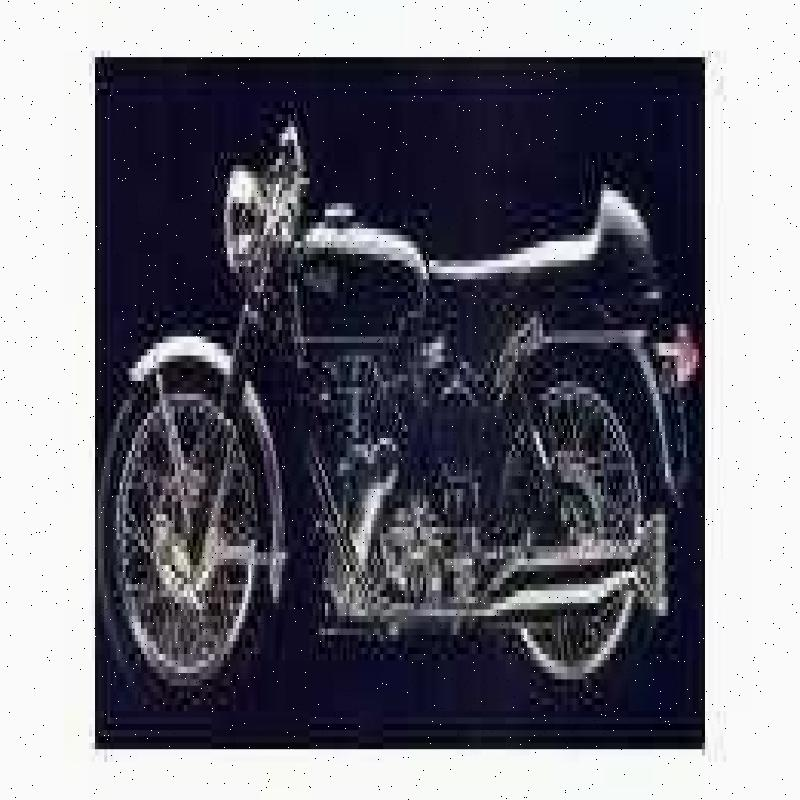bike: (95, 119, 702, 720)
